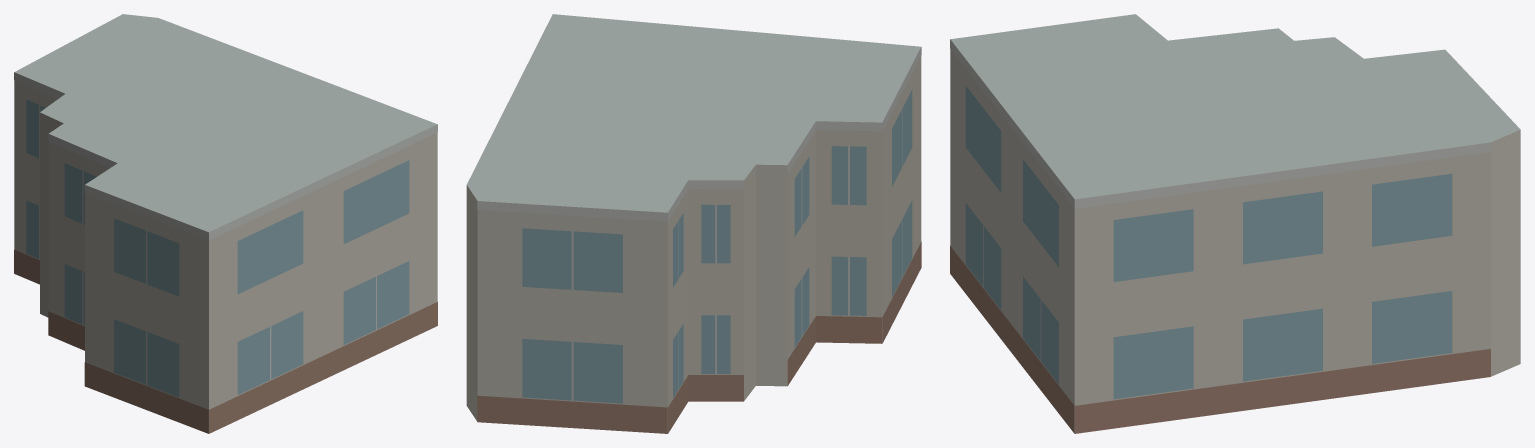
File: survey-upis-32878592.glb
3 views of the same model, side by side, from view 1: azimuth 30°, elevation 25°; view 2: azimuth 150°, elevation 25°; view 3: azimuth 270°, elevation 25° (orthographic). The views are drawn at different scales.
Parts seen in each view (by area): view 1: survey-upis-32878592.tmp; view 2: survey-upis-32878592.tmp; view 3: survey-upis-32878592.tmp.
Boxes of the visible parts, x1=… form: survey-upis-32878592.tmp: x1=14, y1=14, x2=437, y2=433; survey-upis-32878592.tmp: x1=466, y1=14, x2=921, y2=433; survey-upis-32878592.tmp: x1=950, y1=14, x2=1520, y2=433.
Size of the model in its own units: 10.36 by 6.1 by 13.46.
